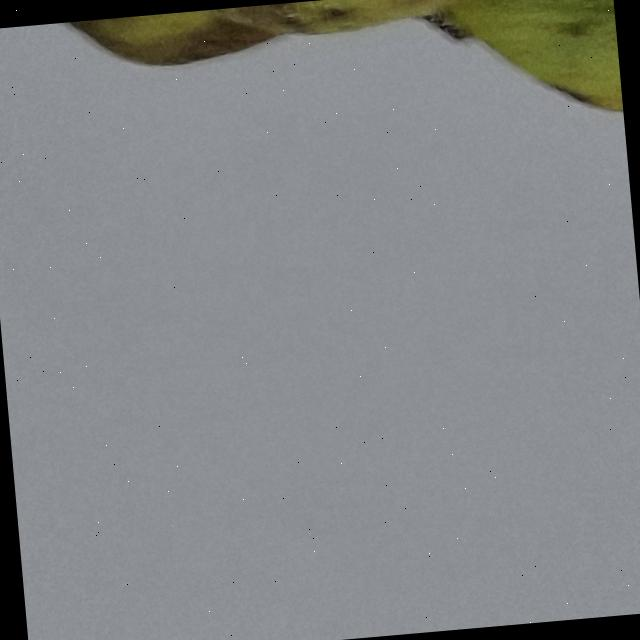mangosteen: (0, 0, 632, 273)
